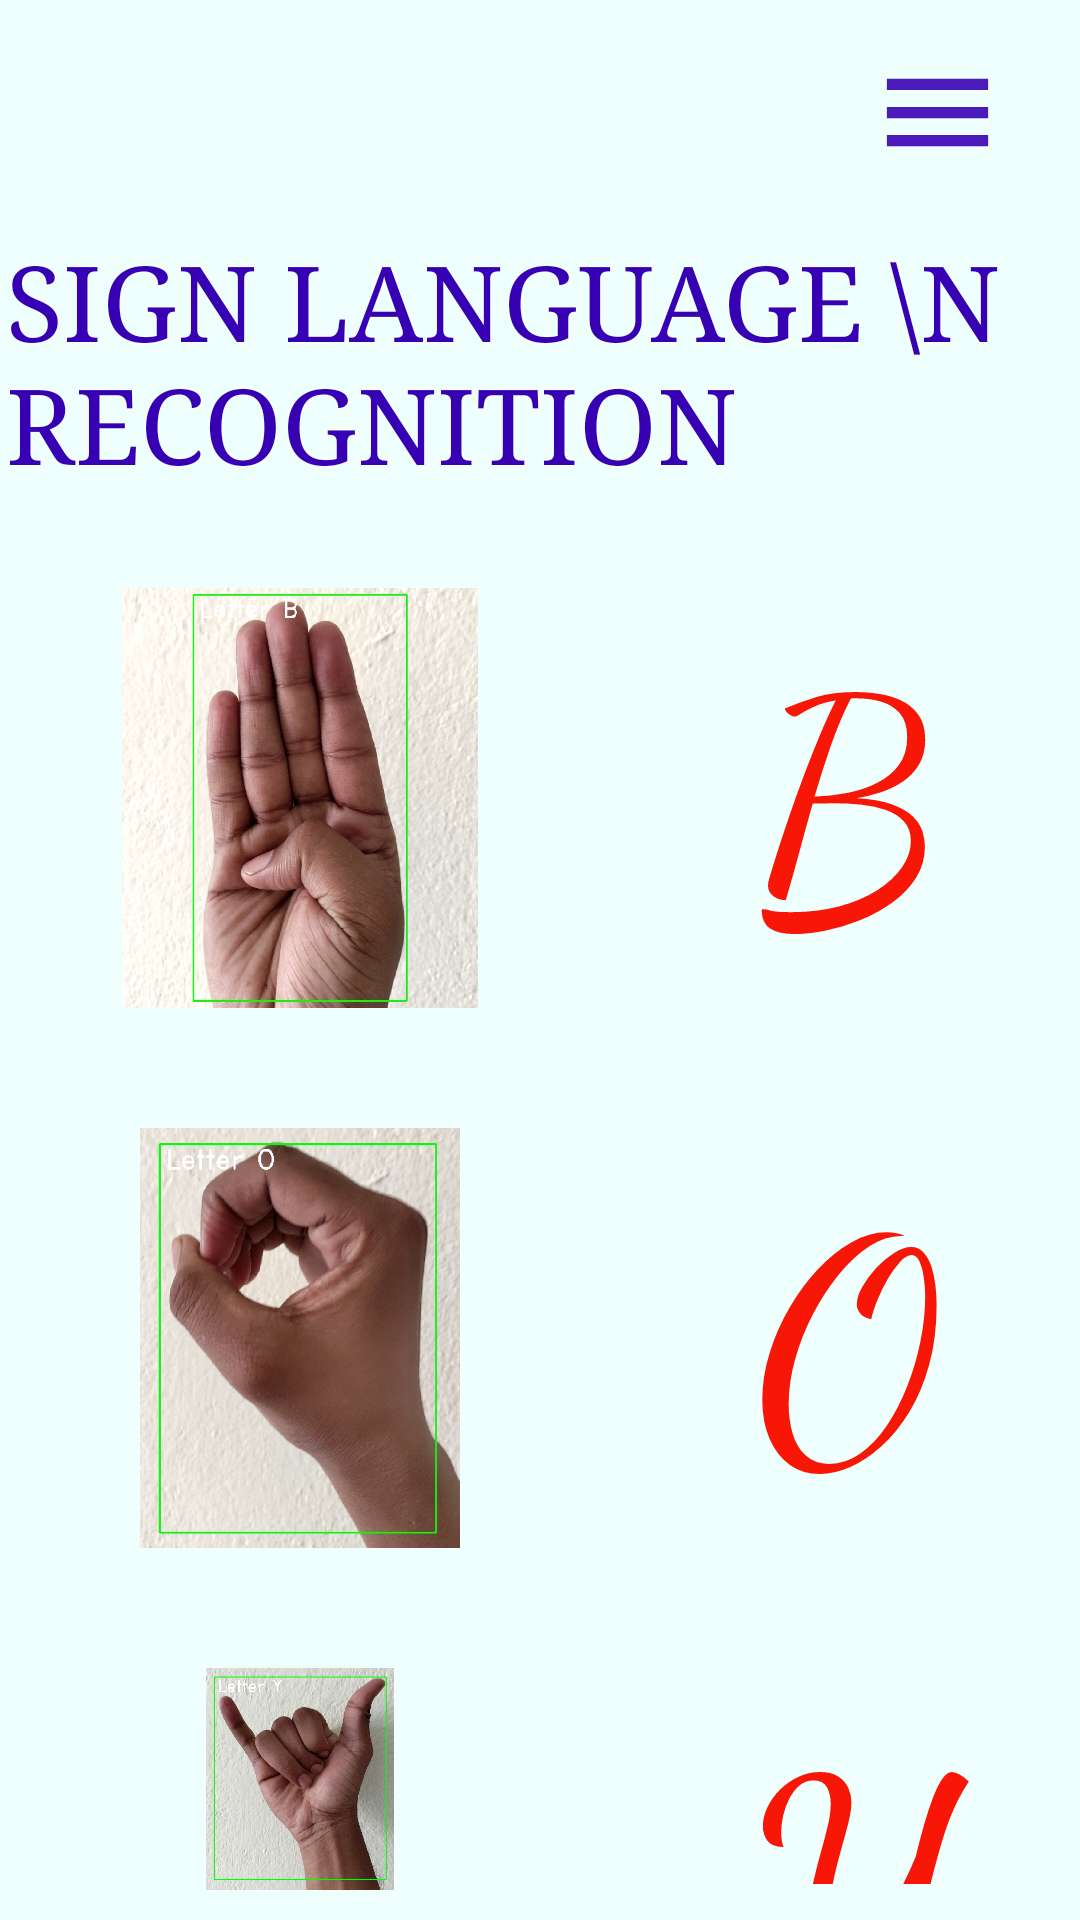

Where to tap for icons on this 1080*1920 app screen, as (x,y):
menu: (937,112)
